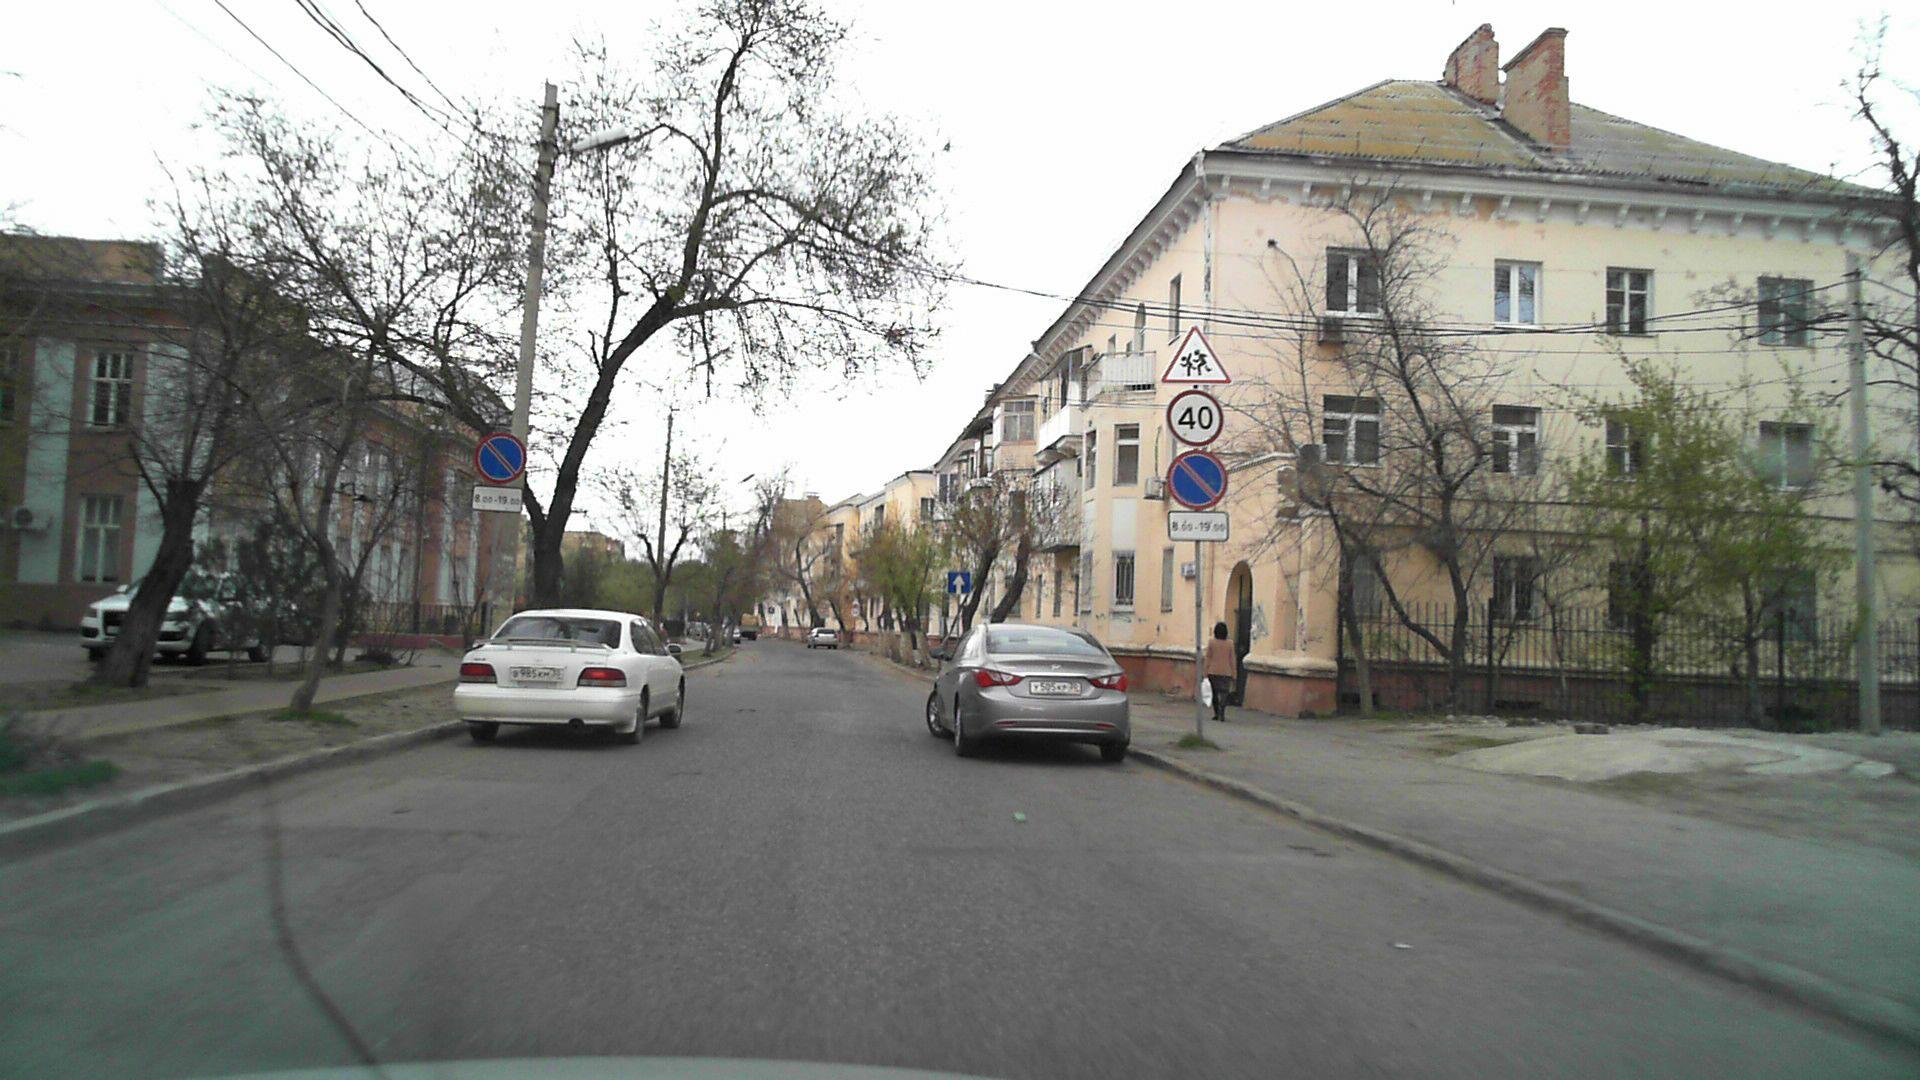1_17: (849, 595, 861, 608)
1_23: (1162, 324, 1232, 384), (819, 604, 829, 613)
3_24: (1164, 389, 1222, 444), (851, 607, 861, 620)
3_28: (1166, 451, 1226, 510), (472, 431, 526, 484)
5_20: (767, 607, 775, 613)
5_5: (947, 570, 971, 593)
8_2_1: (819, 613, 829, 618)
8_5_4: (1166, 508, 1233, 542), (472, 484, 527, 516)
